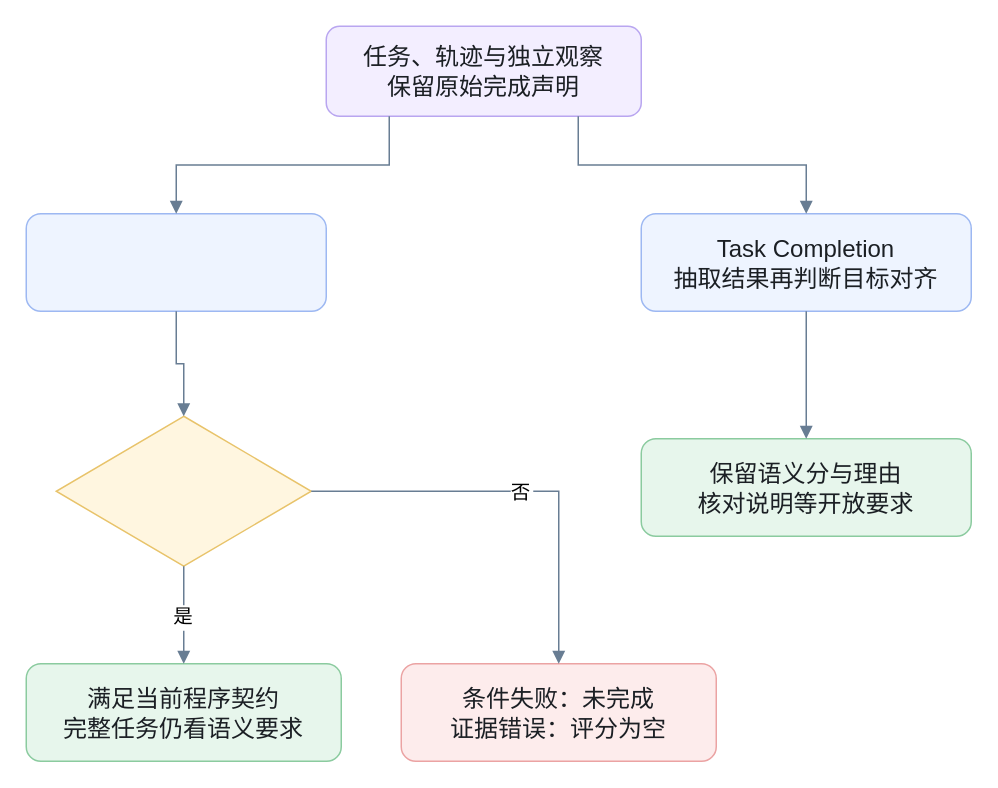
This 998x788 diagram has some shape labels left out. The box of each missing label's shape, as (x1, y1, x2, y2) in pixels:
DeliveryContract 业务行为与保护条件: (25, 212, 326, 311)
证据有效且 关键条件全满足？: (55, 415, 311, 566)
